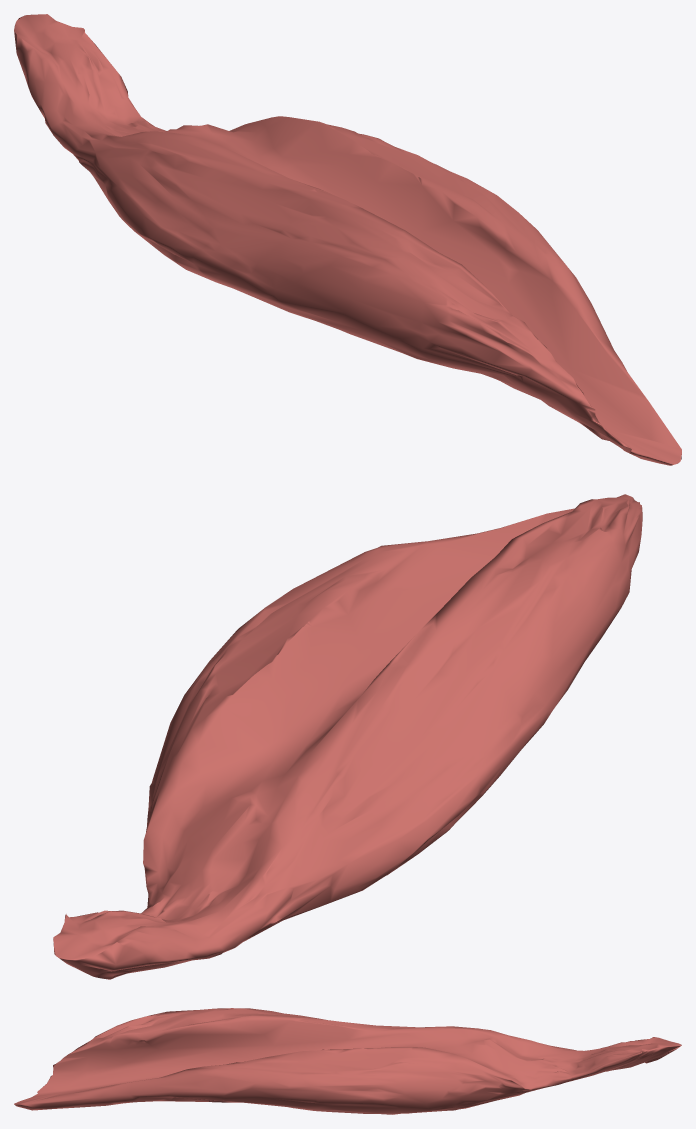
3 views of the same model, one above another, from view 1: azimuth 30°, elevation 25°; view 2: azimuth 150°, elevation 25°; view 3: azimuth 270°, elevation 25° (orthographic). The views are drawn at different scales.
Parts seen in each view (by area): view 1: 右侧肱肌; view 2: 右侧肱肌; view 3: 右侧肱肌.
Boxes of the visible parts, box(x1,y1,x2,y2) form: 右侧肱肌: box(14, 14, 681, 465); 右侧肱肌: box(53, 494, 642, 979); 右侧肱肌: box(14, 1008, 681, 1114).
Bounding box in the file's own units: 0.0897 × 0.04 × 0.3423.
